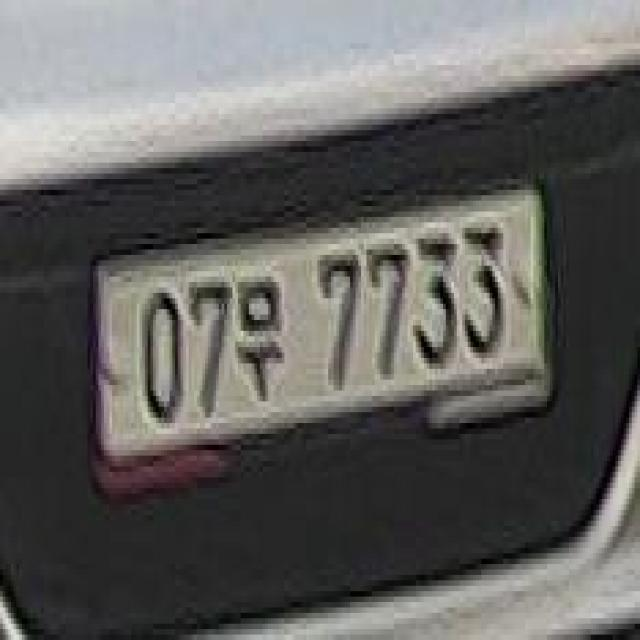illegal_plate: (90, 168, 554, 490)
